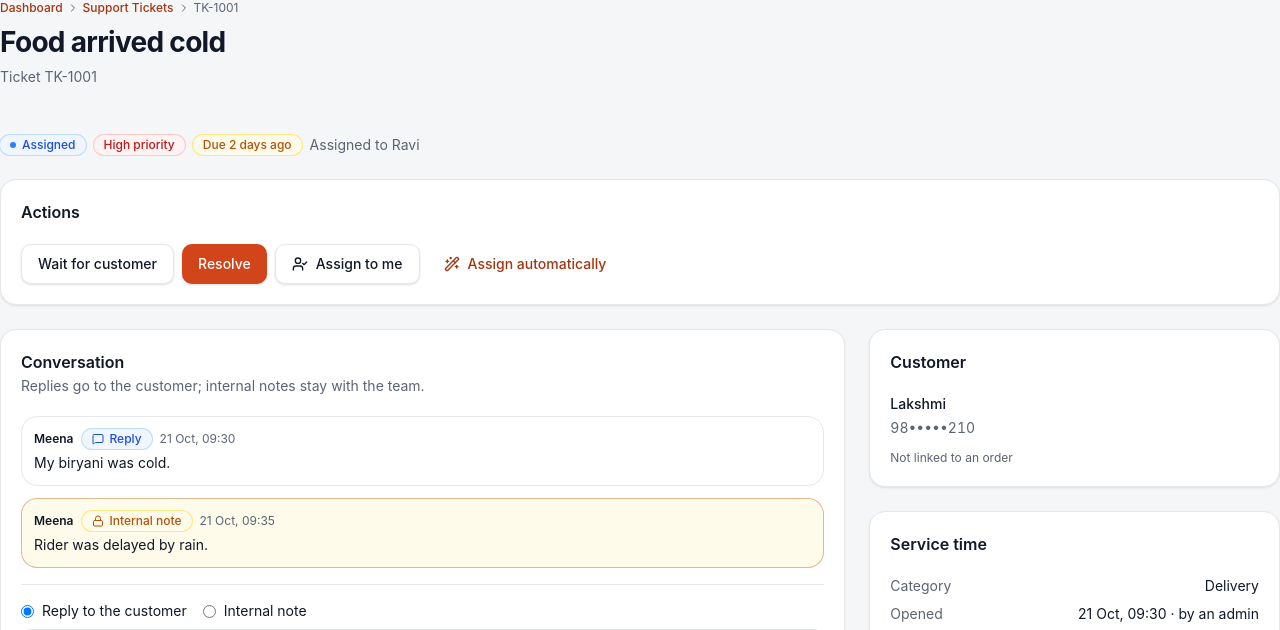
Test: Ticket page › shows the conversation; Resolve is sent at the version seen; a stale version is said plainly
Expected: the text "My biryani was cold." is shown, [34, 454, 170, 471]
Expected: the list item "Rider was delayed by rain." shows "Internal note", [110, 513, 182, 528]
Click the button "Resolve" at (224, 264), box [182, 244, 267, 284]
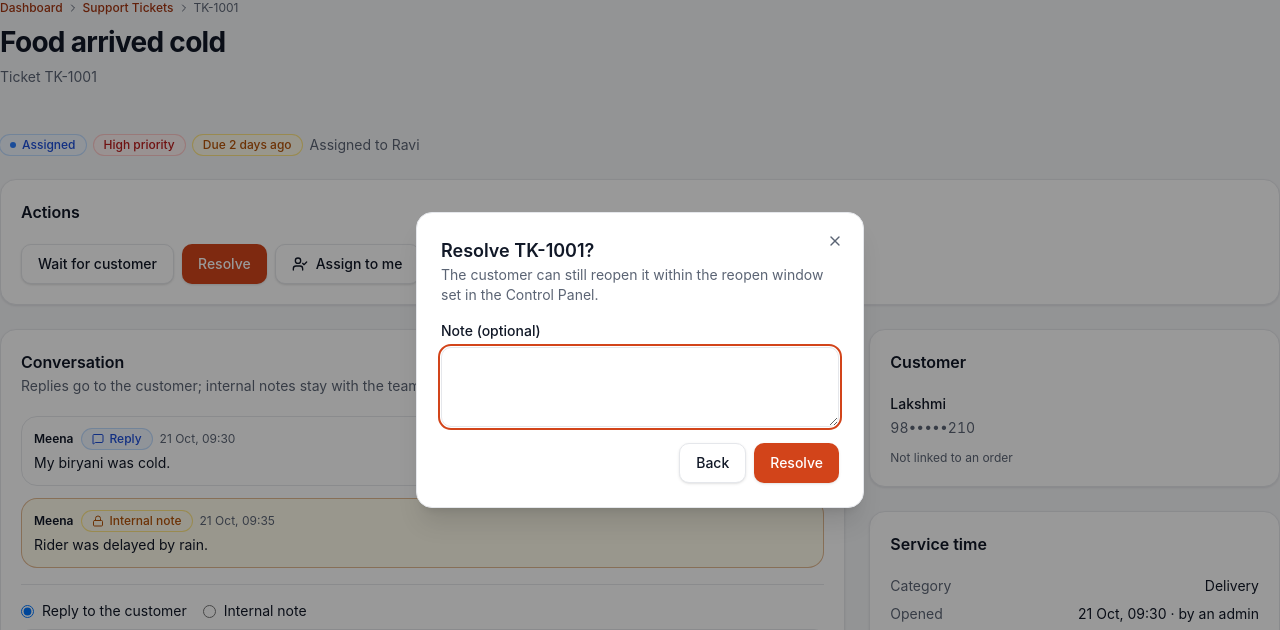
Click the button "Resolve" at (797, 463), box [754, 443, 839, 483]
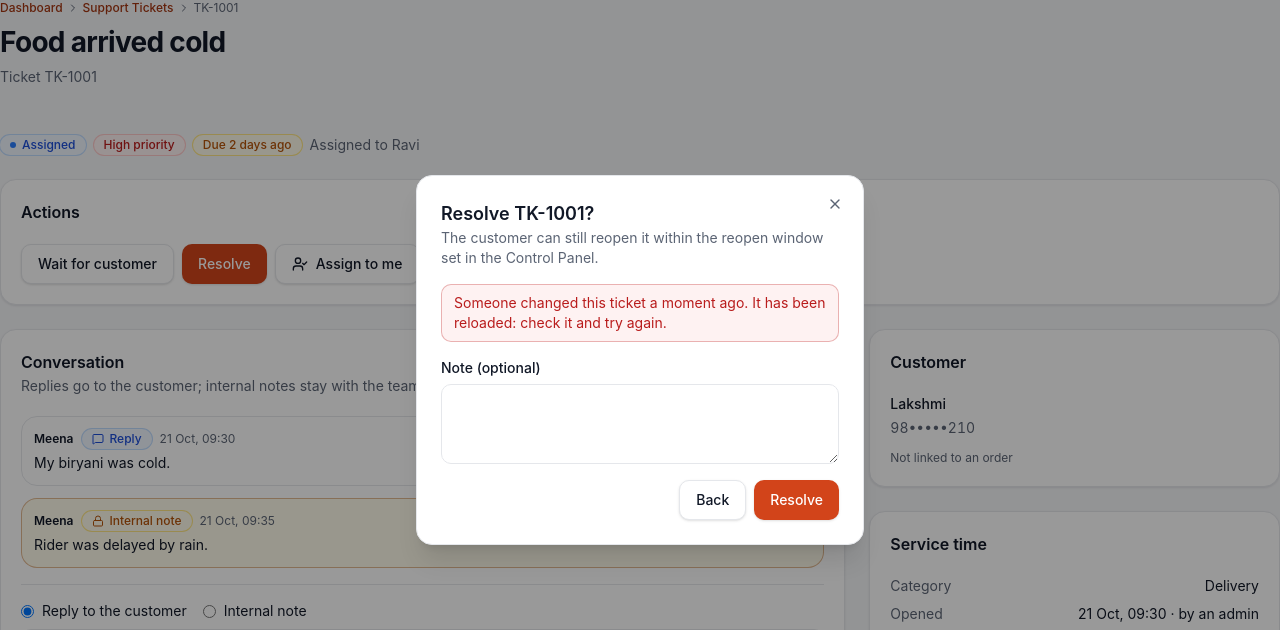
Result: the text "changed this ticket a moment ago" is shown at [454, 294, 825, 331]
